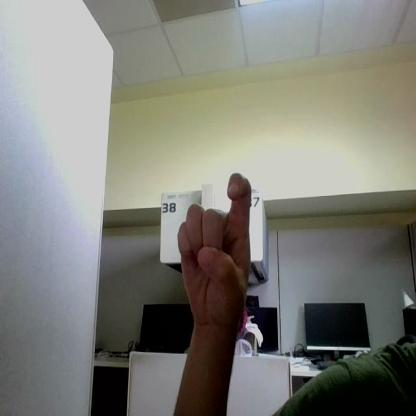X: (178, 174, 250, 328)
